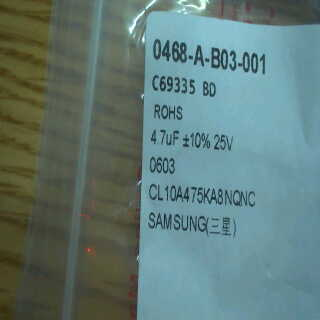4.7uF: (149, 126, 181, 149)
